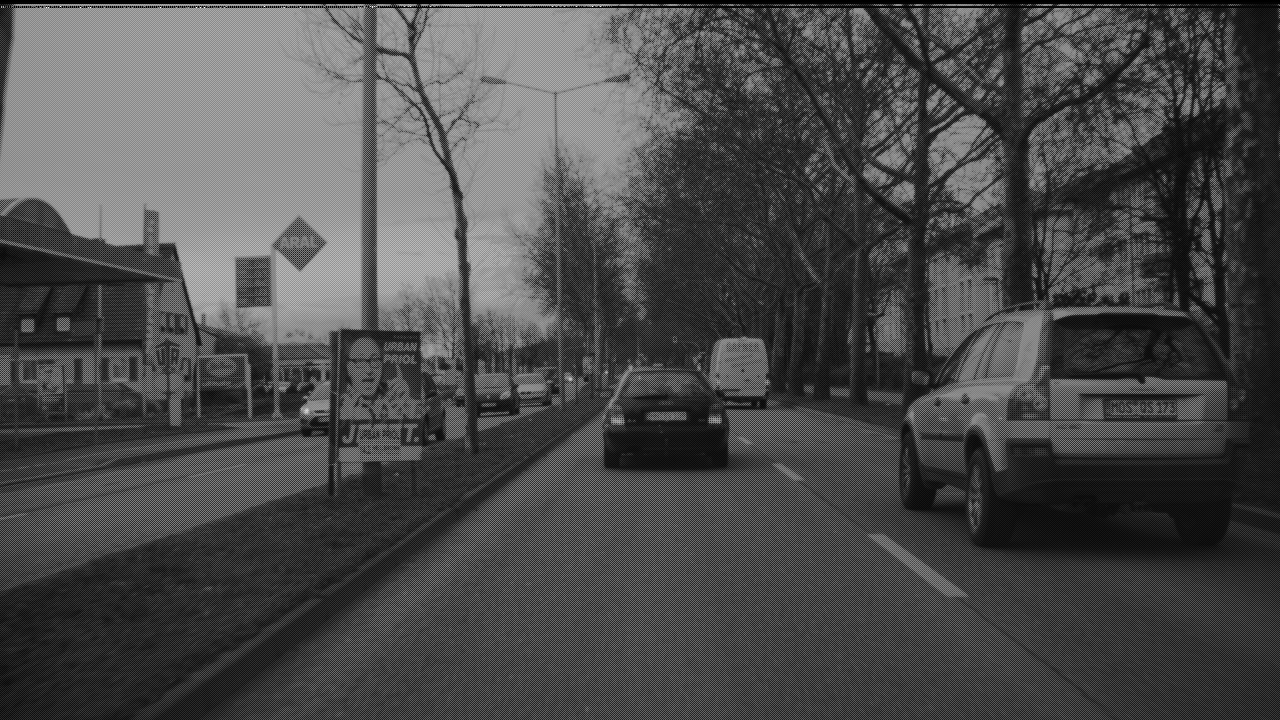pole: (360, 1, 379, 484), (551, 88, 564, 399), (273, 305, 283, 419)
